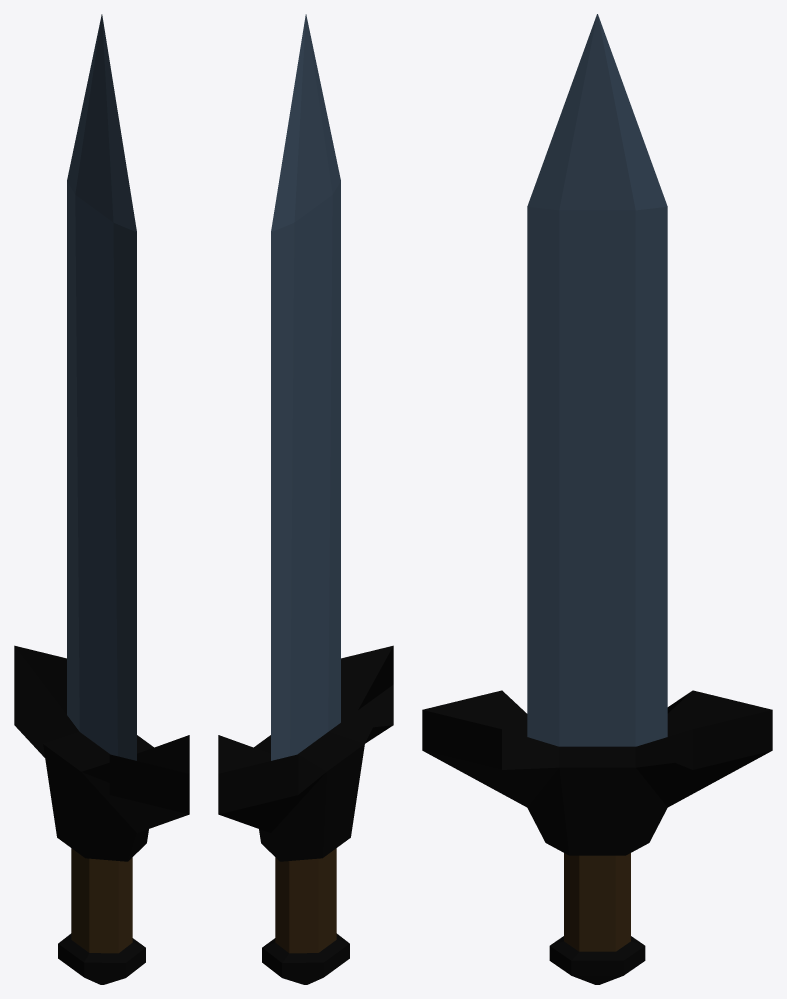
File: DemonKnightSword.fbx
3 renders of one model, left to right at view 1: azimuth 30°, elevation 25°; view 2: azimuth 150°, elevation 25°; view 3: azimuth 270°, elevation 25°, orthographic.
Visible parts, largest first — view 1: DemonKnightSword; view 2: DemonKnightSword; view 3: DemonKnightSword.
Part boxes in pixels (x1,y1,x2,y2): DemonKnightSword: (14,14,189,984); DemonKnightSword: (218,14,393,984); DemonKnightSword: (422,14,772,984).
Bounding box in the file's own units: 8.57 × 99.55 × 32.61.
